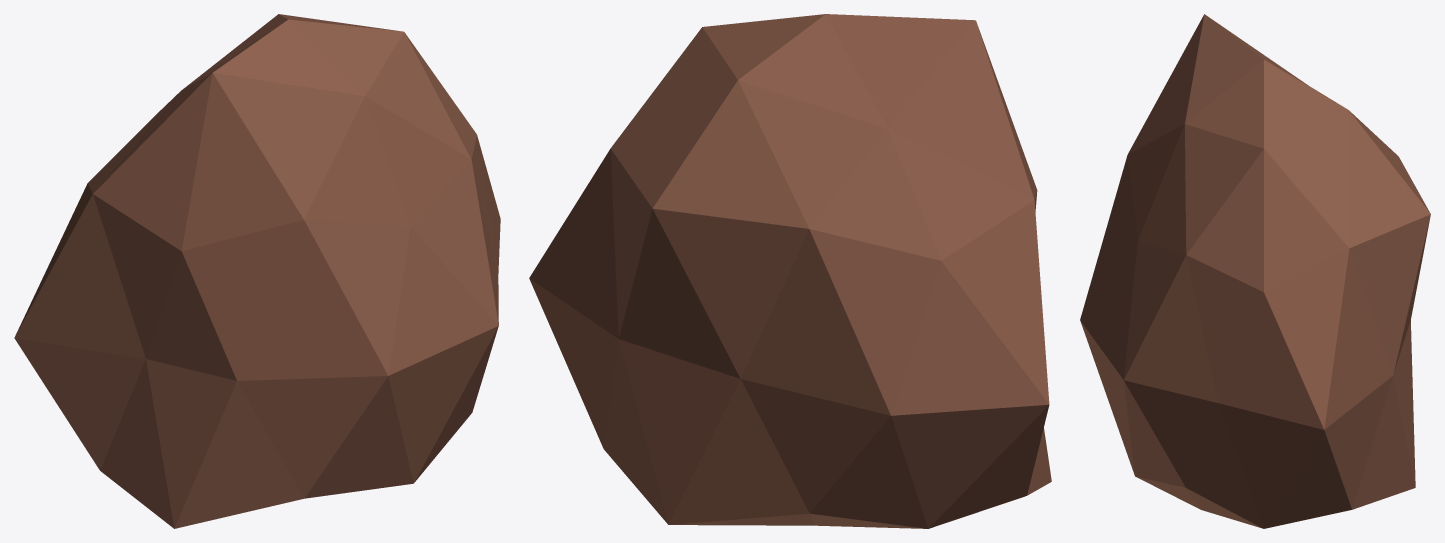
The model's file is cinder2.glb.
3 views of the same model, side by side, from view 1: azimuth 30°, elevation 25°; view 2: azimuth 150°, elevation 25°; view 3: azimuth 270°, elevation 25° (orthographic). The views are drawn at different scales.
Visible parts, largest first — view 1: cinder2; view 2: cinder2; view 3: cinder2.
Boxes of the visible parts, left/top/right/bottom form: cinder2: left=14, top=14, right=500, bottom=528; cinder2: left=529, top=14, right=1051, bottom=528; cinder2: left=1080, top=14, right=1430, bottom=528.
Size of the model in its own units: 4.66 by 3.97 by 3.16.
